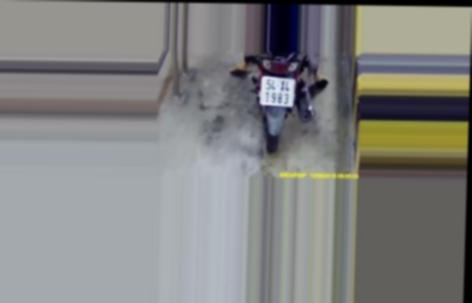License_Plate: (254, 74, 298, 109)
